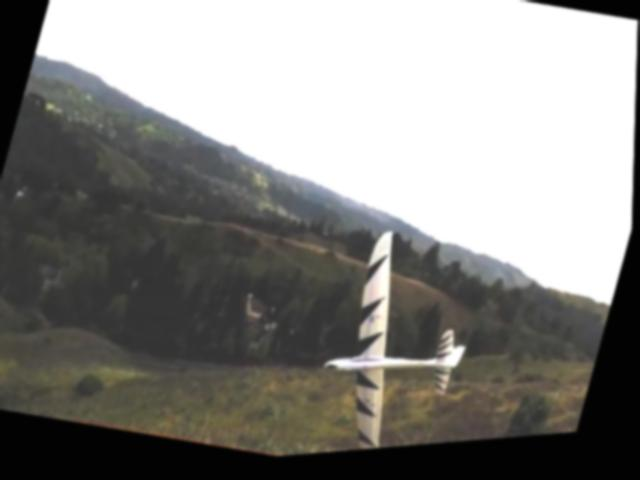iha: (305, 224, 494, 460)
